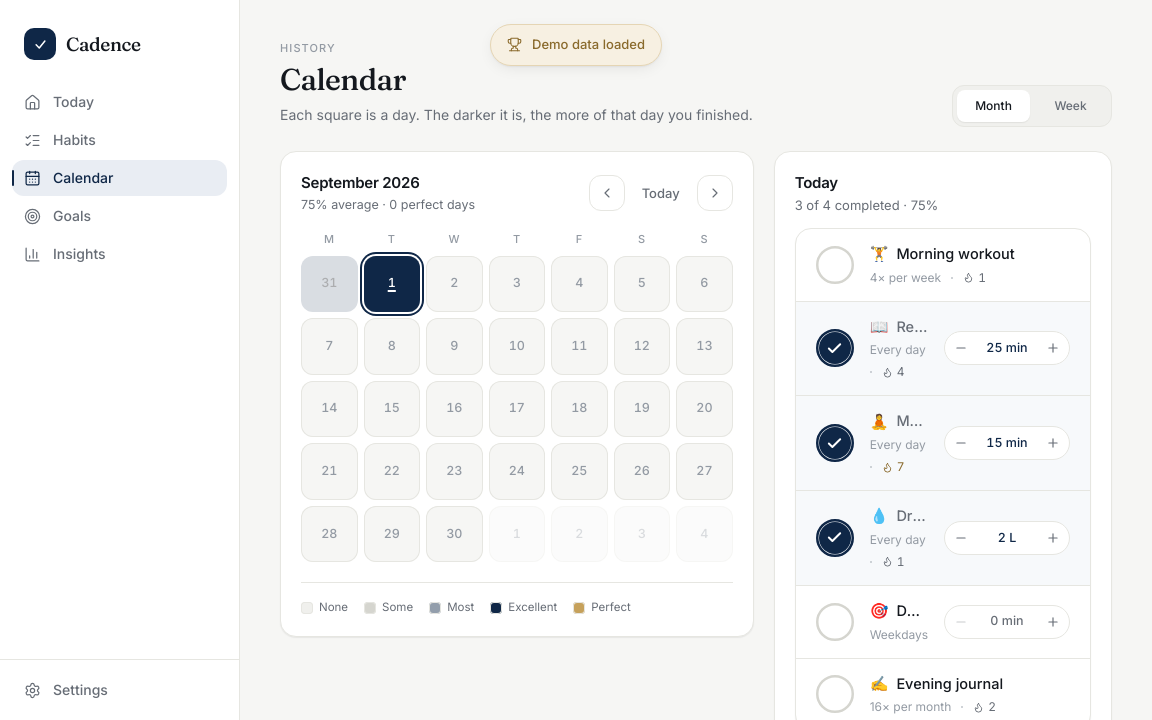
Test: navigation › does not report a future month as zero per cent
expect the heading "Calendar" is shown: met, box [280, 60, 406, 98]
Click the button named "Next month".
click(715, 193)  # box [697, 175, 733, 211]
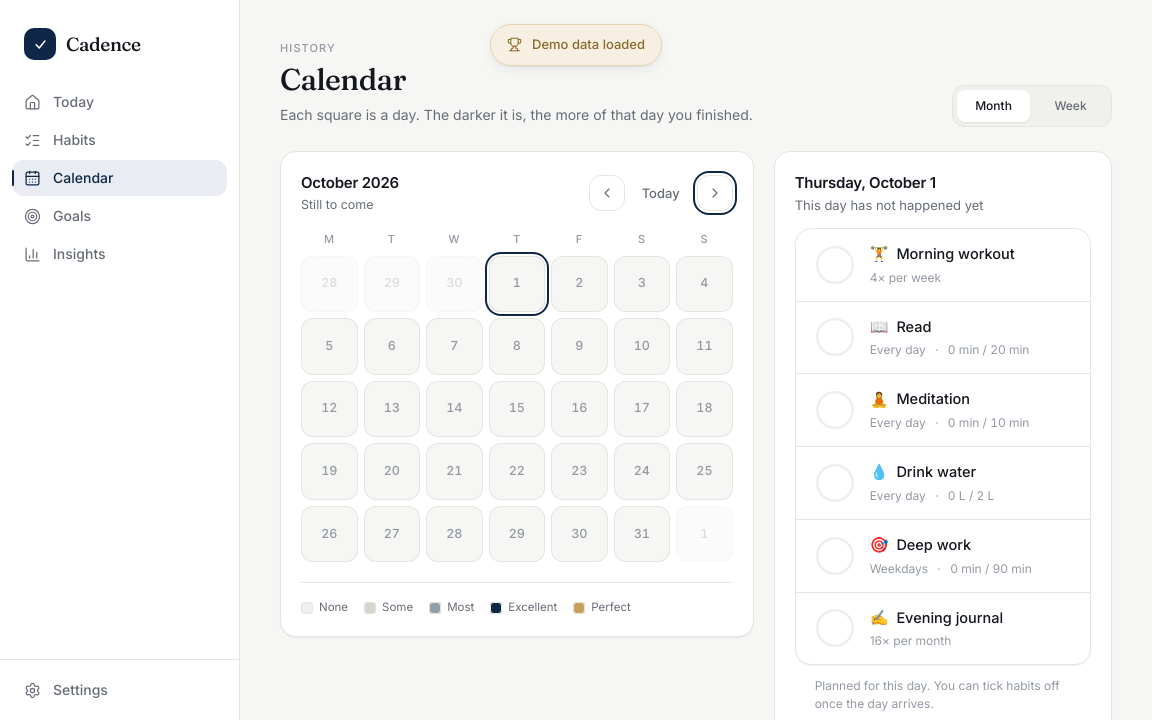
expect the text "Still to come" is shown: met, box [301, 197, 374, 212]
